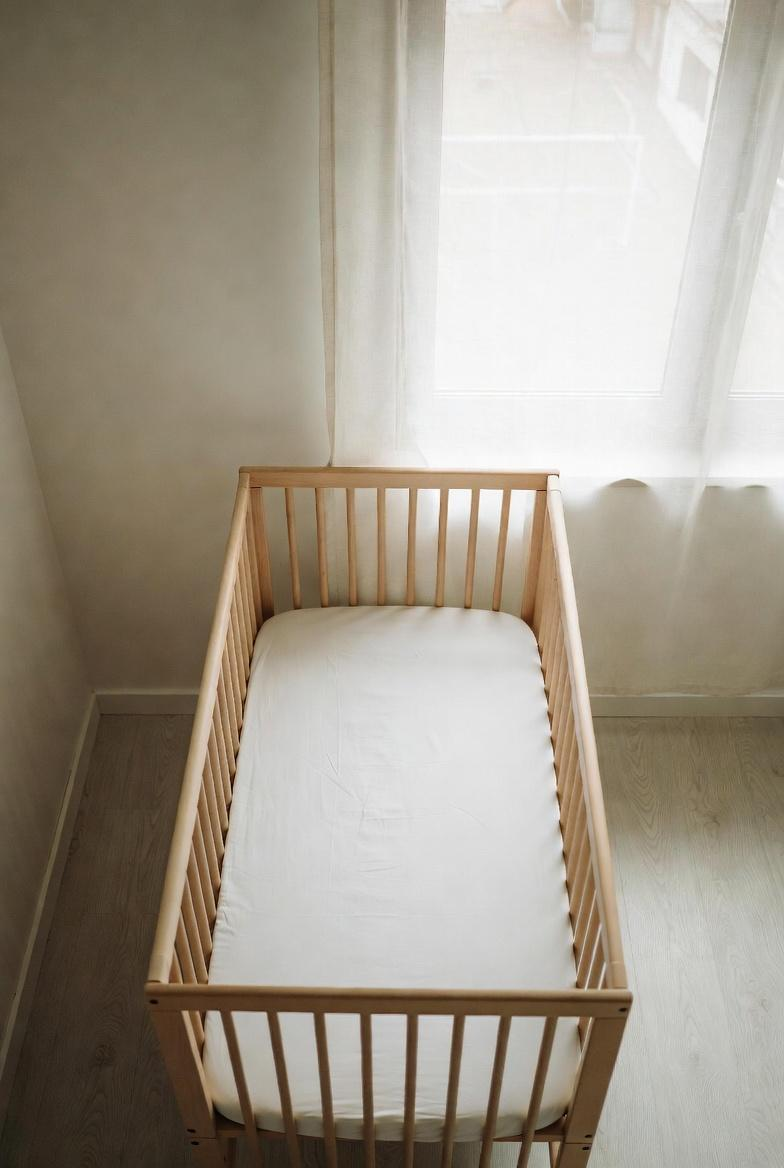crib: (128, 448, 655, 1168)
